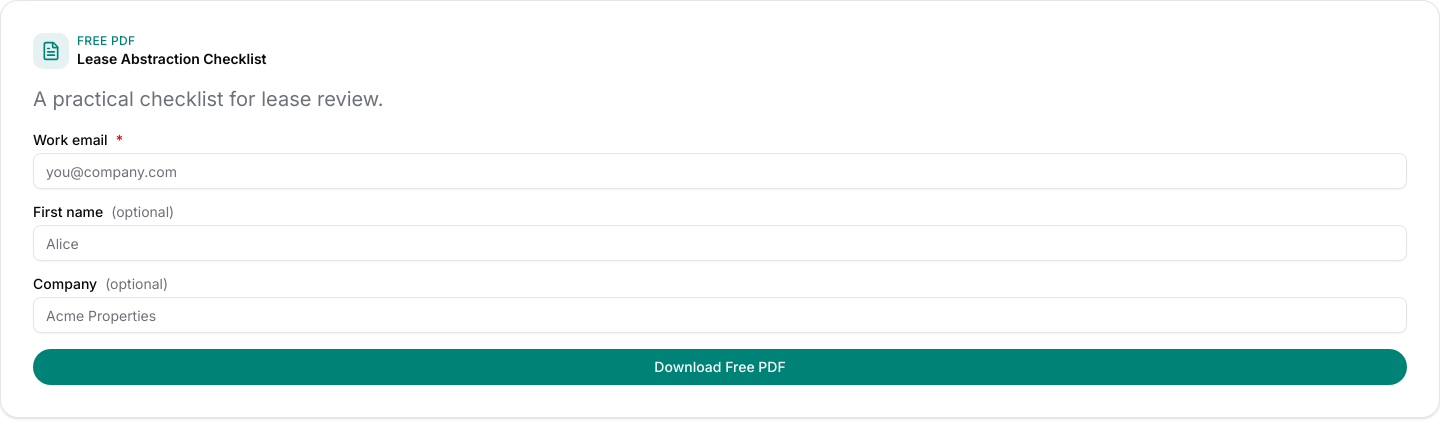
LeadMagnetGate › shows direct-download copy when the resource email was not sent
Type "tenant@example.com" into the field labelled "Work email *" at (720, 171), box [33,153,1407,189]
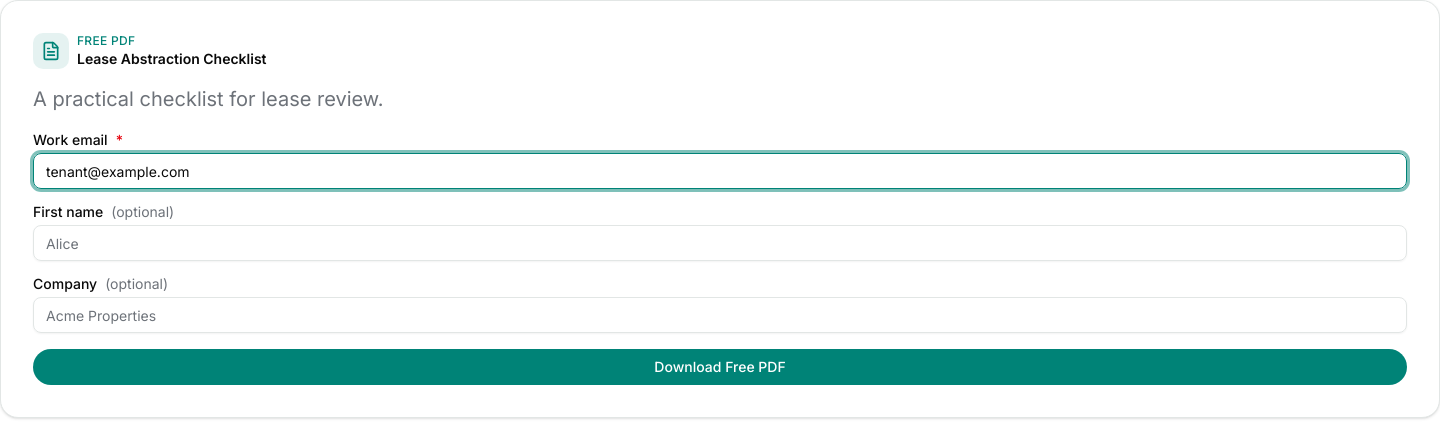
Click the button "Download Free PDF" at (720, 367), box [33,349,1407,385]
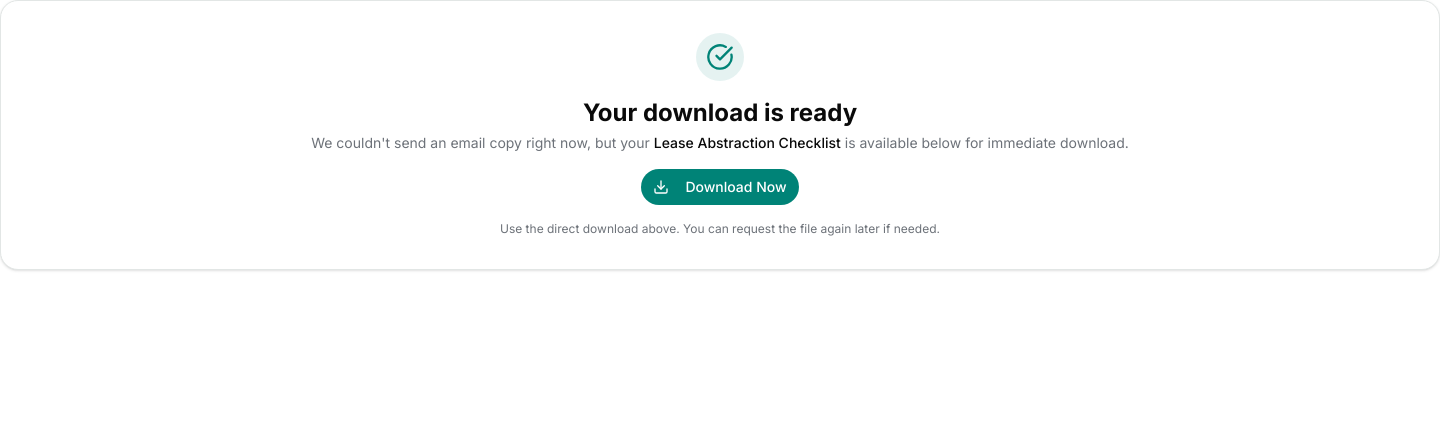
Check: the heading "Your download is ready" is shown, box [583,98,857,127]
Check: the text "available below for immediate download" is shown, box [845,134,1129,151]
